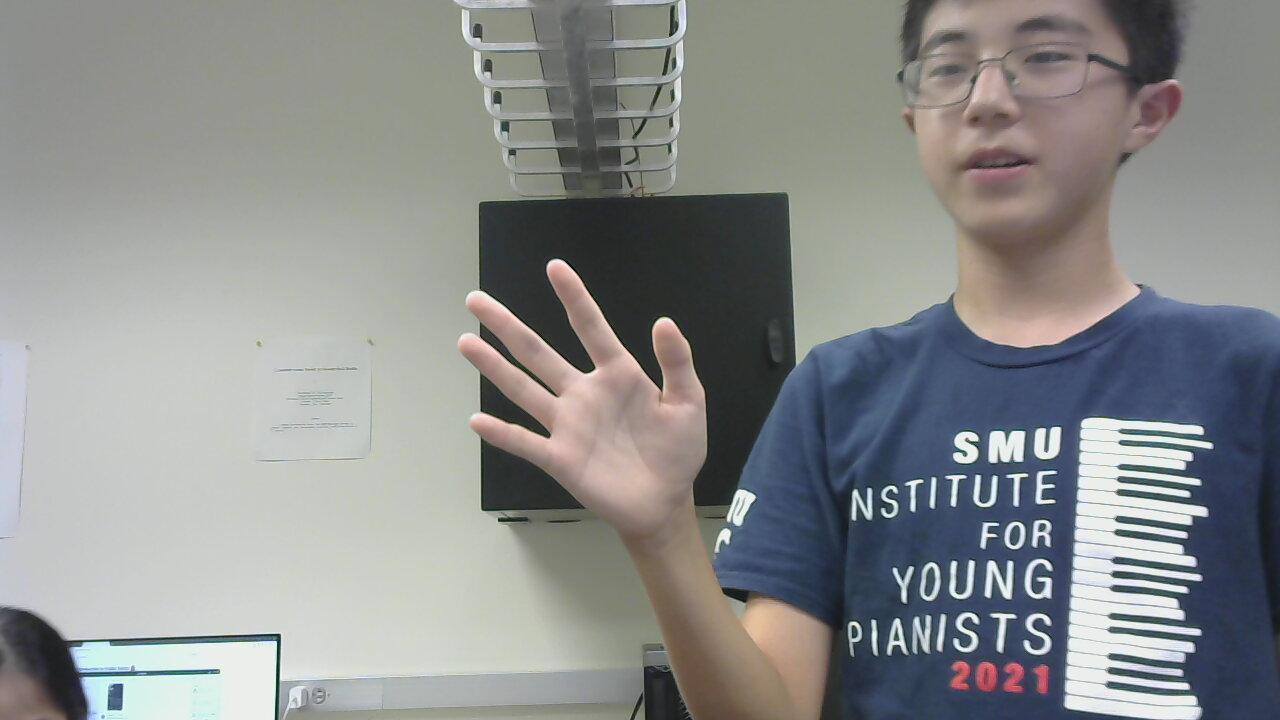hands: (449, 254, 713, 521)
